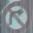Don't turn right: (1, 2, 31, 32)
